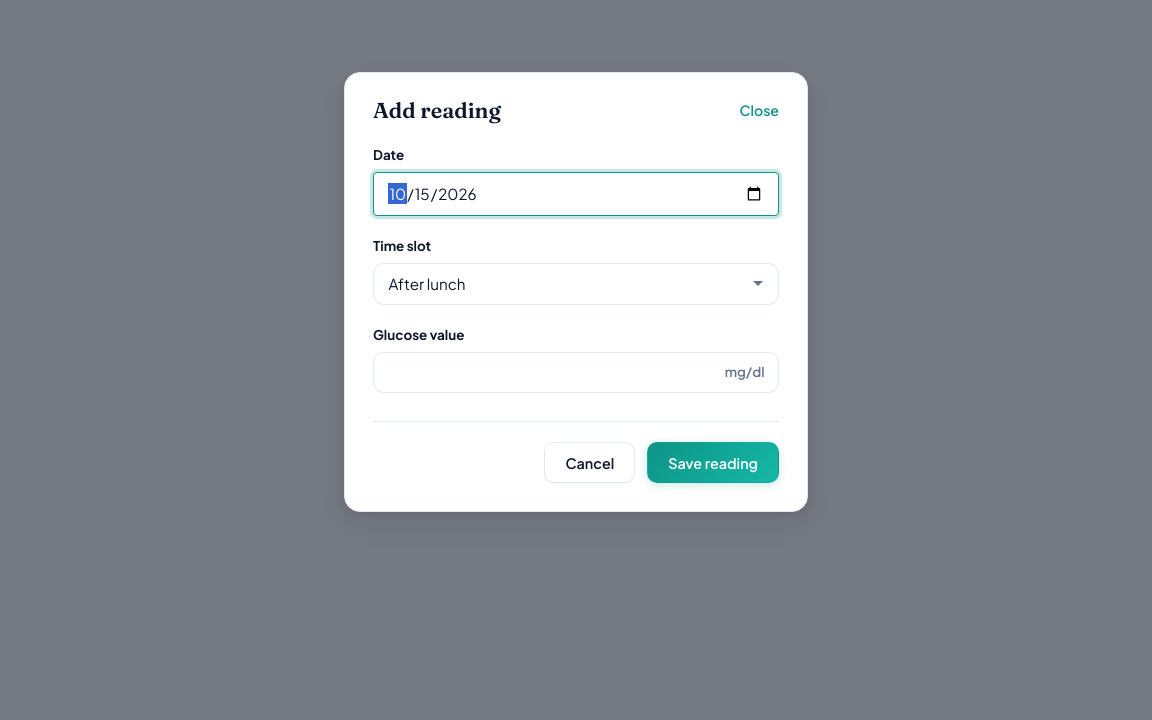
ReadingForm validation › clears the message once the value is edited
The width and height of the screenshot is (1152, 720).
Click the button "Save reading" at (713, 463), box [647,442,779,483]
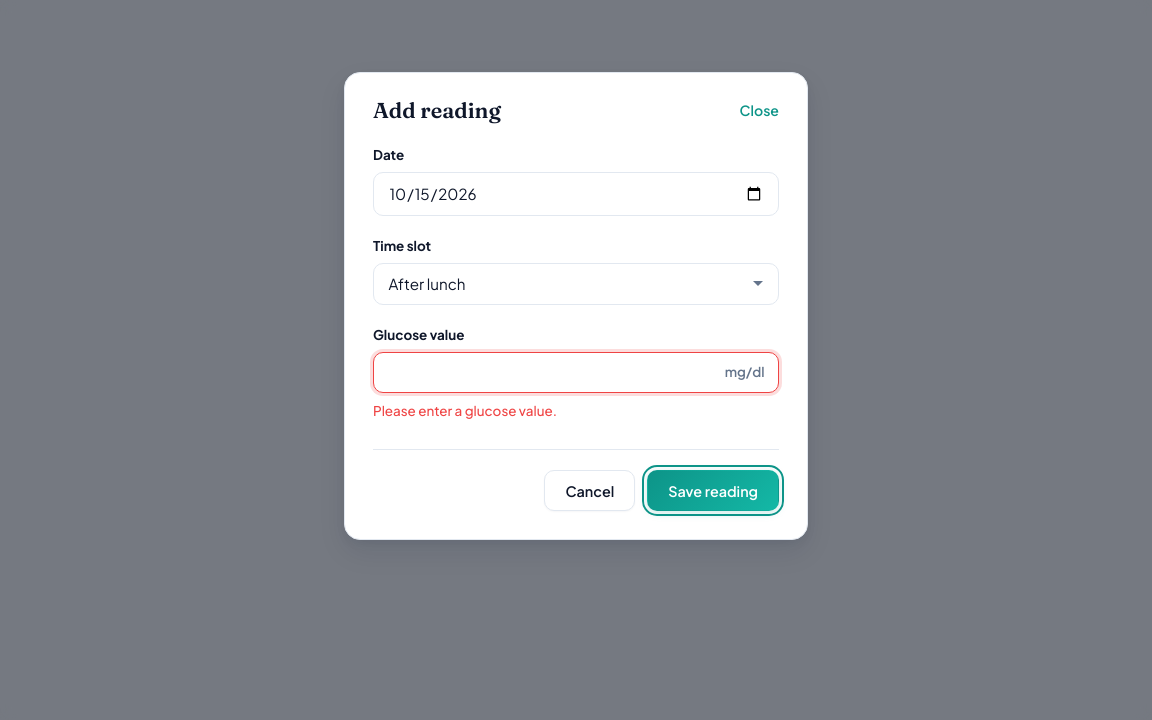
Expected: the text "Please enter a glucose value." is shown, [373,402,557,419]
Type "1" into the number field labelled "Glucose value" at (576, 372), box [373,352,779,393]
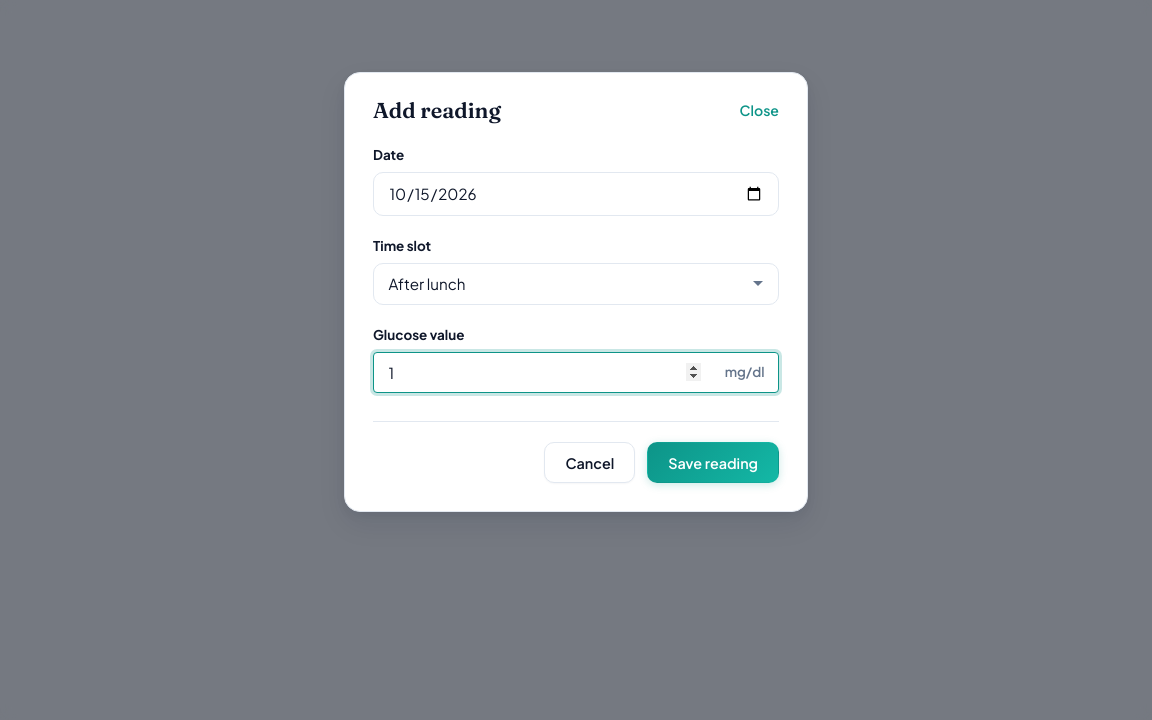
Expected: the text "Please enter a glucose value." is gone
